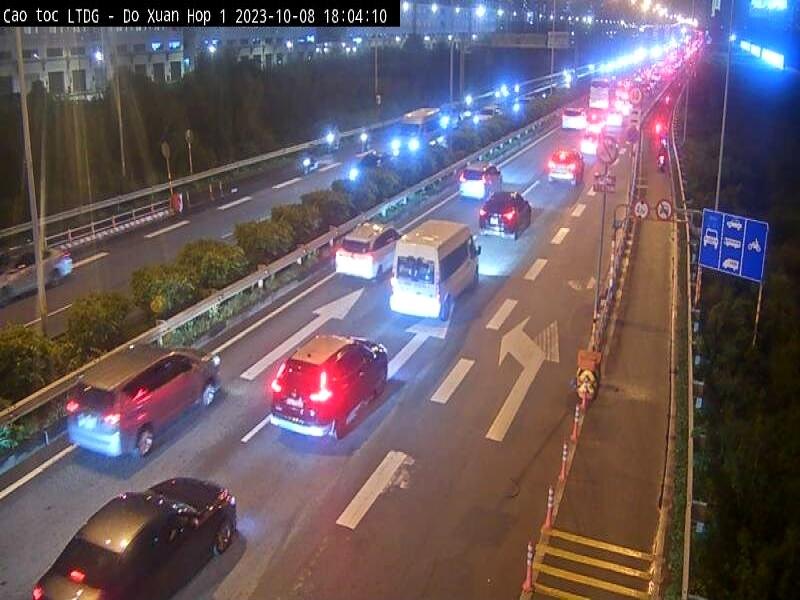bus: (588, 76, 615, 109)
car: (33, 474, 236, 600), (66, 342, 222, 461), (271, 331, 388, 446), (389, 221, 481, 322), (1, 243, 72, 306), (336, 222, 405, 282), (392, 107, 443, 160), (479, 191, 531, 241), (460, 162, 502, 200), (548, 148, 585, 186), (562, 107, 586, 131)
